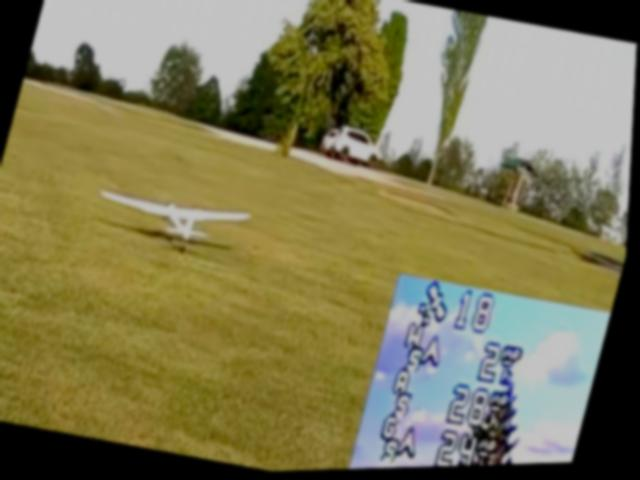iha: (94, 175, 255, 255)
